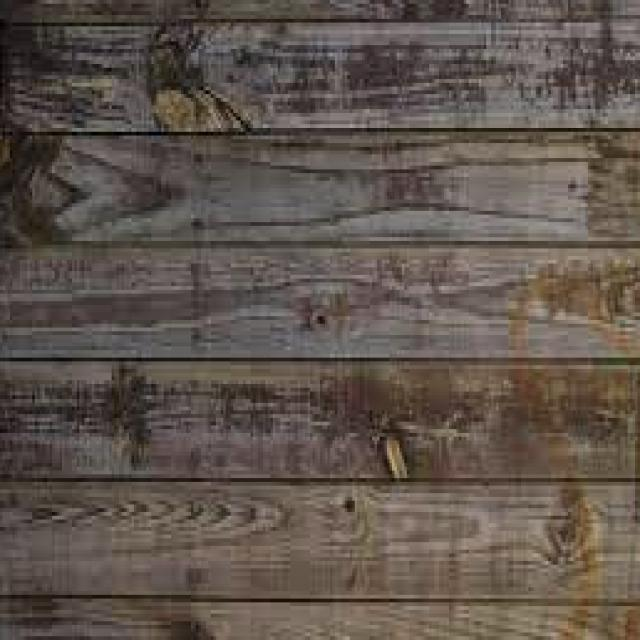have-wooden-eyes: (148, 26, 249, 132), (388, 438, 408, 479)
perfect-wooden-plate: (0, 132, 640, 358)
